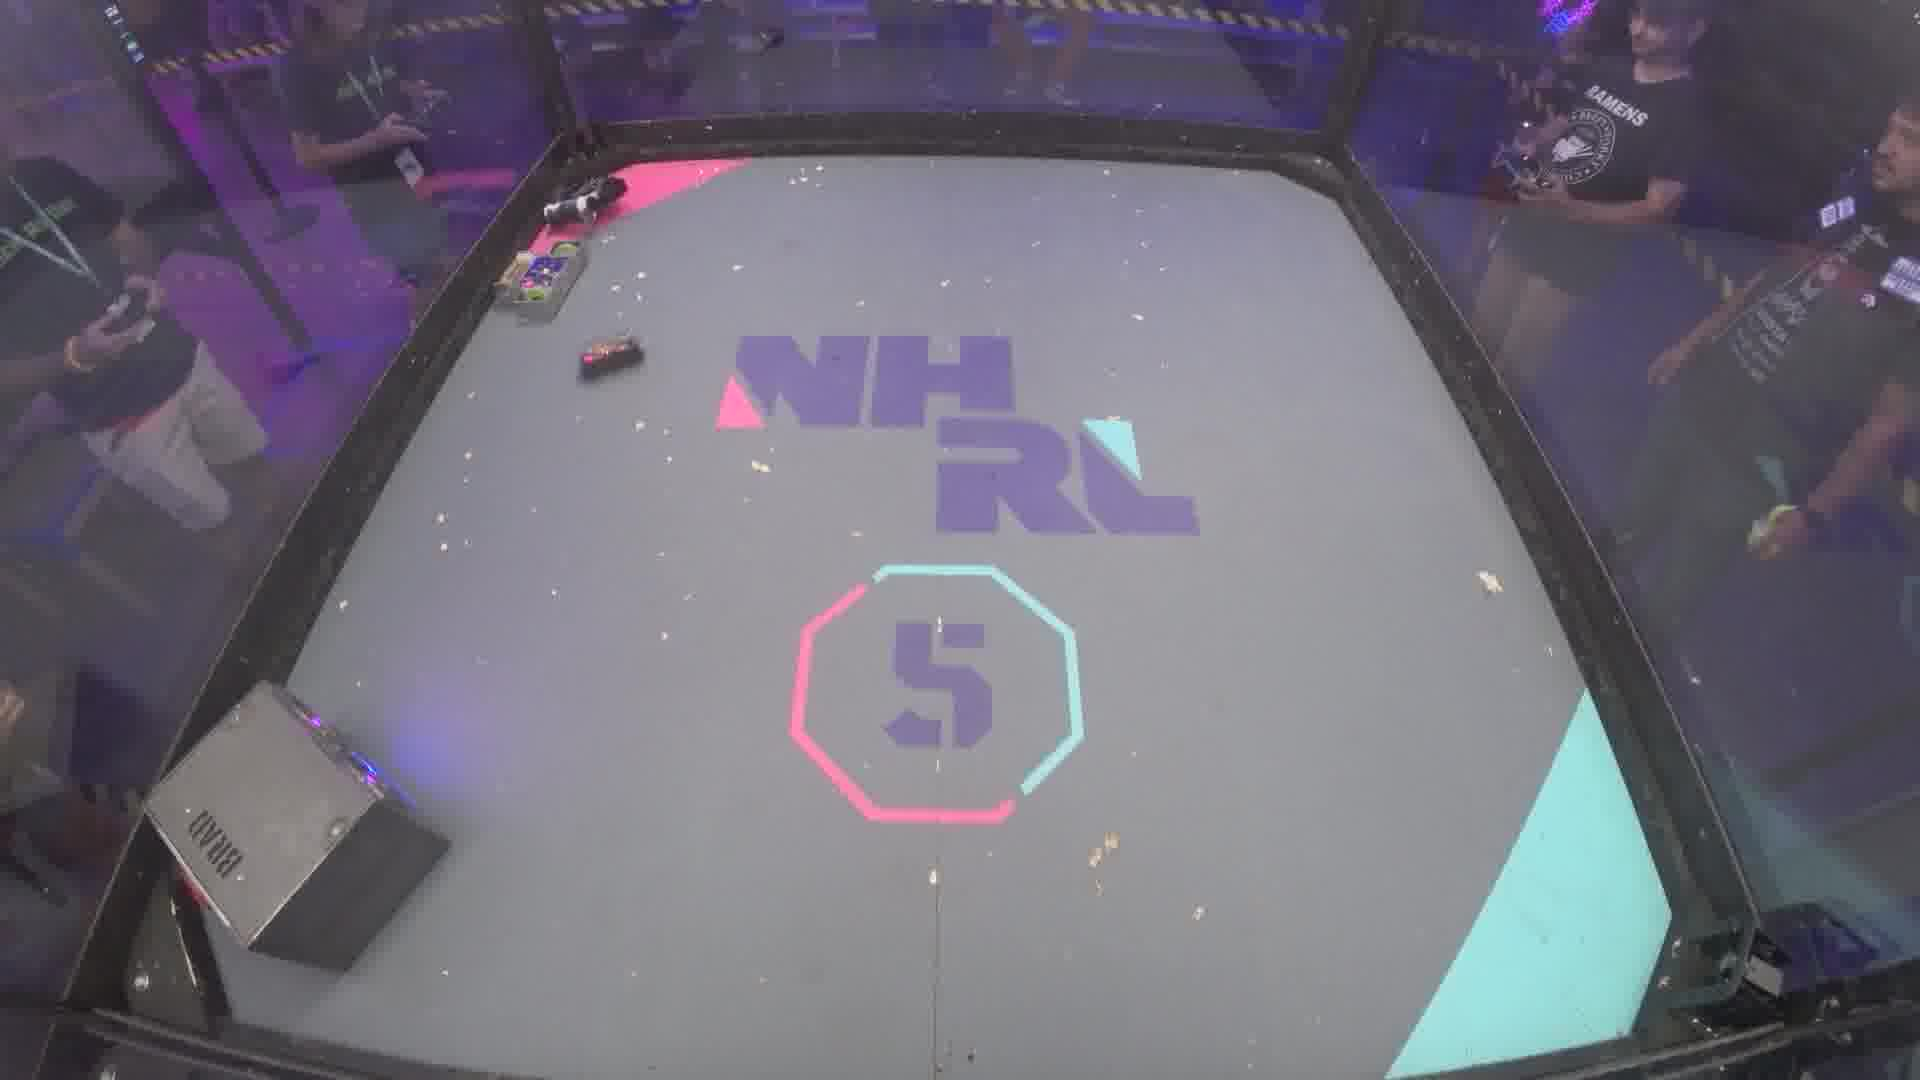combatbot: (496, 239, 592, 316), (574, 331, 647, 381), (549, 175, 626, 223)
housebot: (142, 680, 460, 968)
